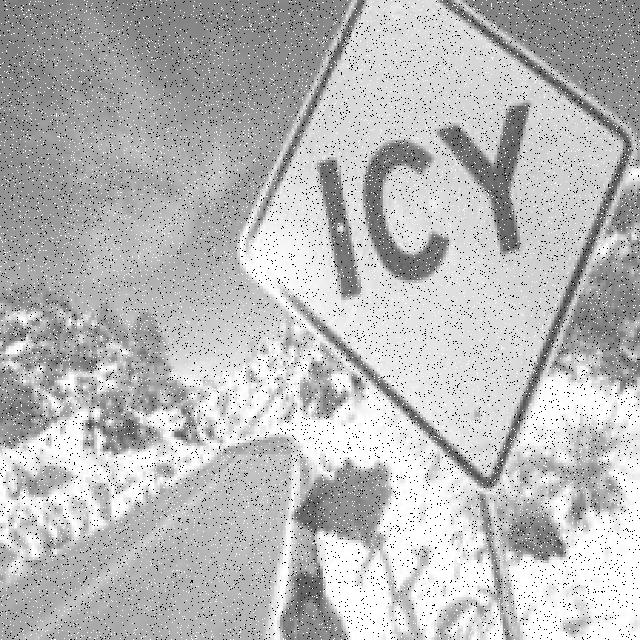clear-road: (0, 454, 297, 640)
